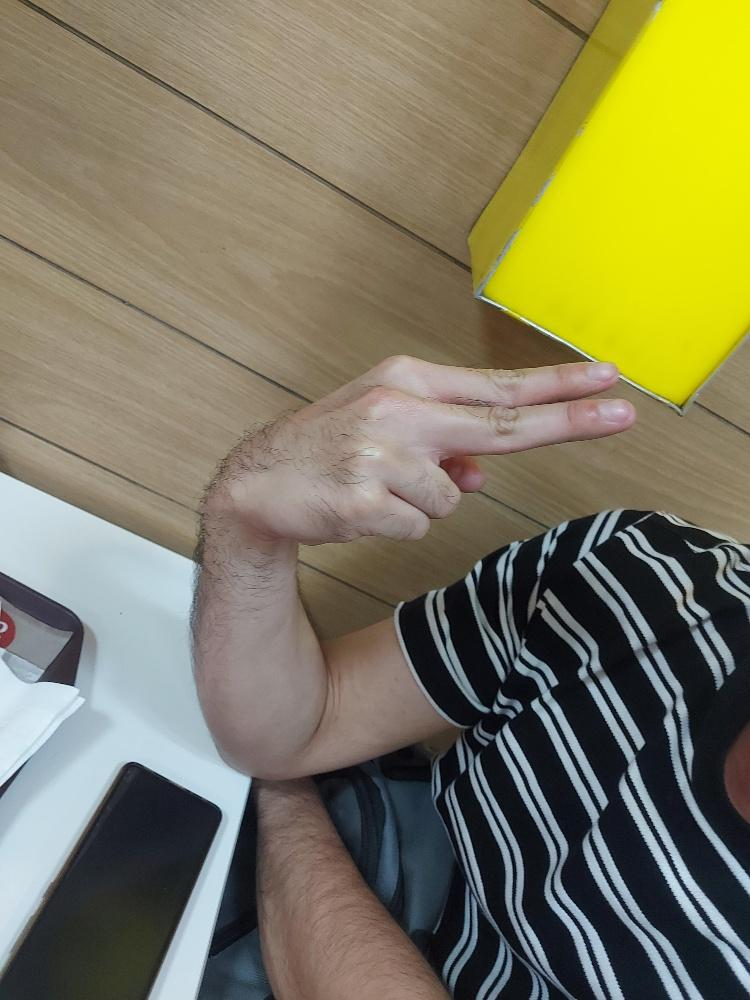h: (193, 345, 641, 550)
